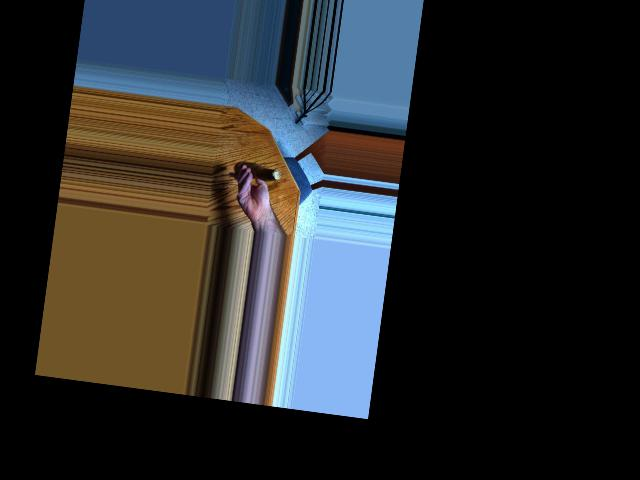sweet_potato: (236, 158, 278, 185)
